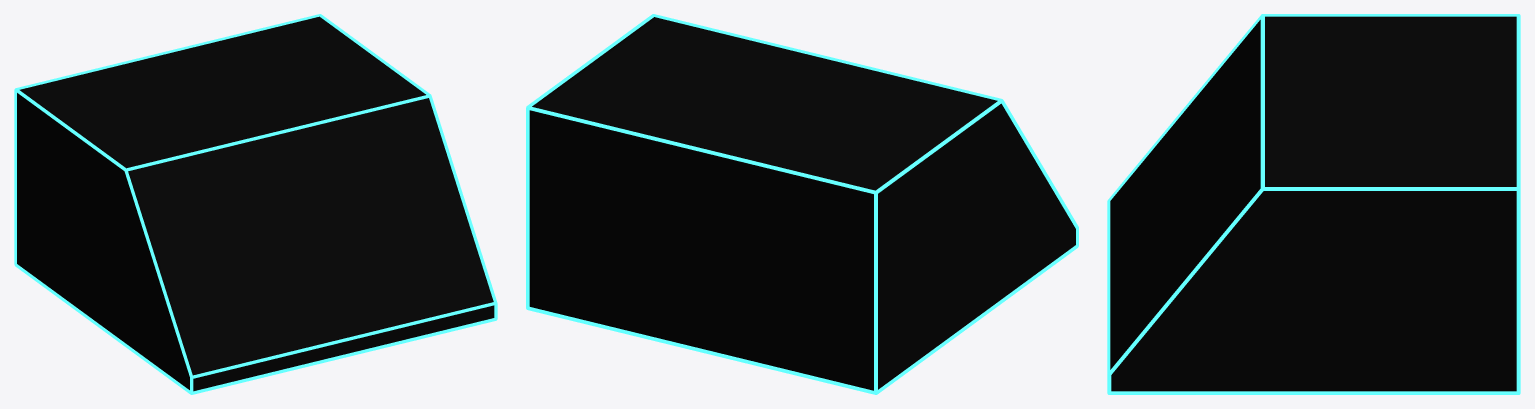
Rendered from ramp.fbx.
3 renders of one model, left to right at view 1: azimuth 30°, elevation 25°; view 2: azimuth 150°, elevation 25°; view 3: azimuth 270°, elevation 25°, orthographic. The views are drawn at different scales.
Visible parts, largest first — view 1: Ramp, Ramp_1; view 2: Ramp, Ramp_1; view 3: Ramp, Ramp_1.
Boxes of the visible parts, box(x1,y1,x2,y2) form: Ramp: box(17, 16, 494, 391); Ramp_1: box(14, 14, 497, 394); Ramp: box(529, 17, 1075, 390); Ramp_1: box(526, 14, 1078, 394); Ramp: box(1110, 16, 1516, 391); Ramp_1: box(1107, 14, 1520, 394).
Bounding box in the file's own units: 202 × 112 × 202.
